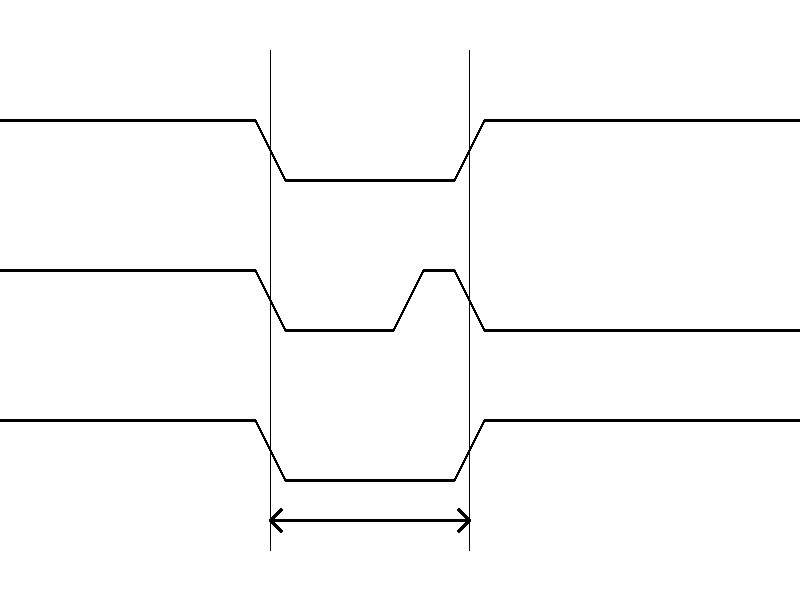double_arrow: (270, 505, 469, 535)
